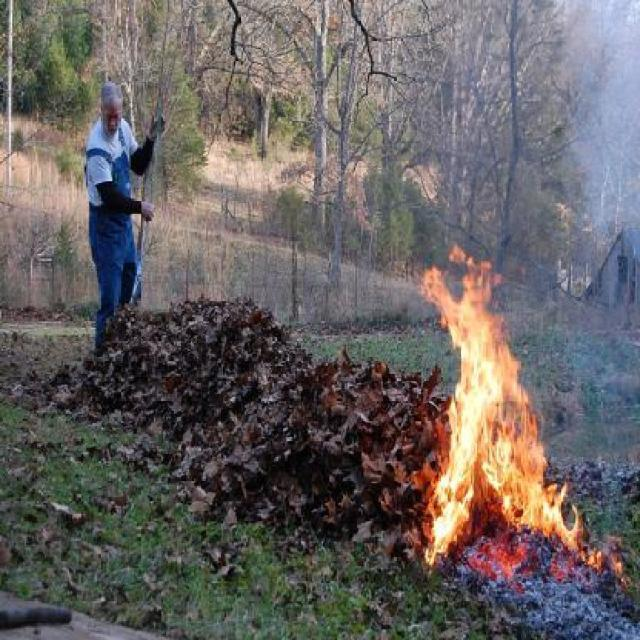Fire: (420, 245, 584, 566)
